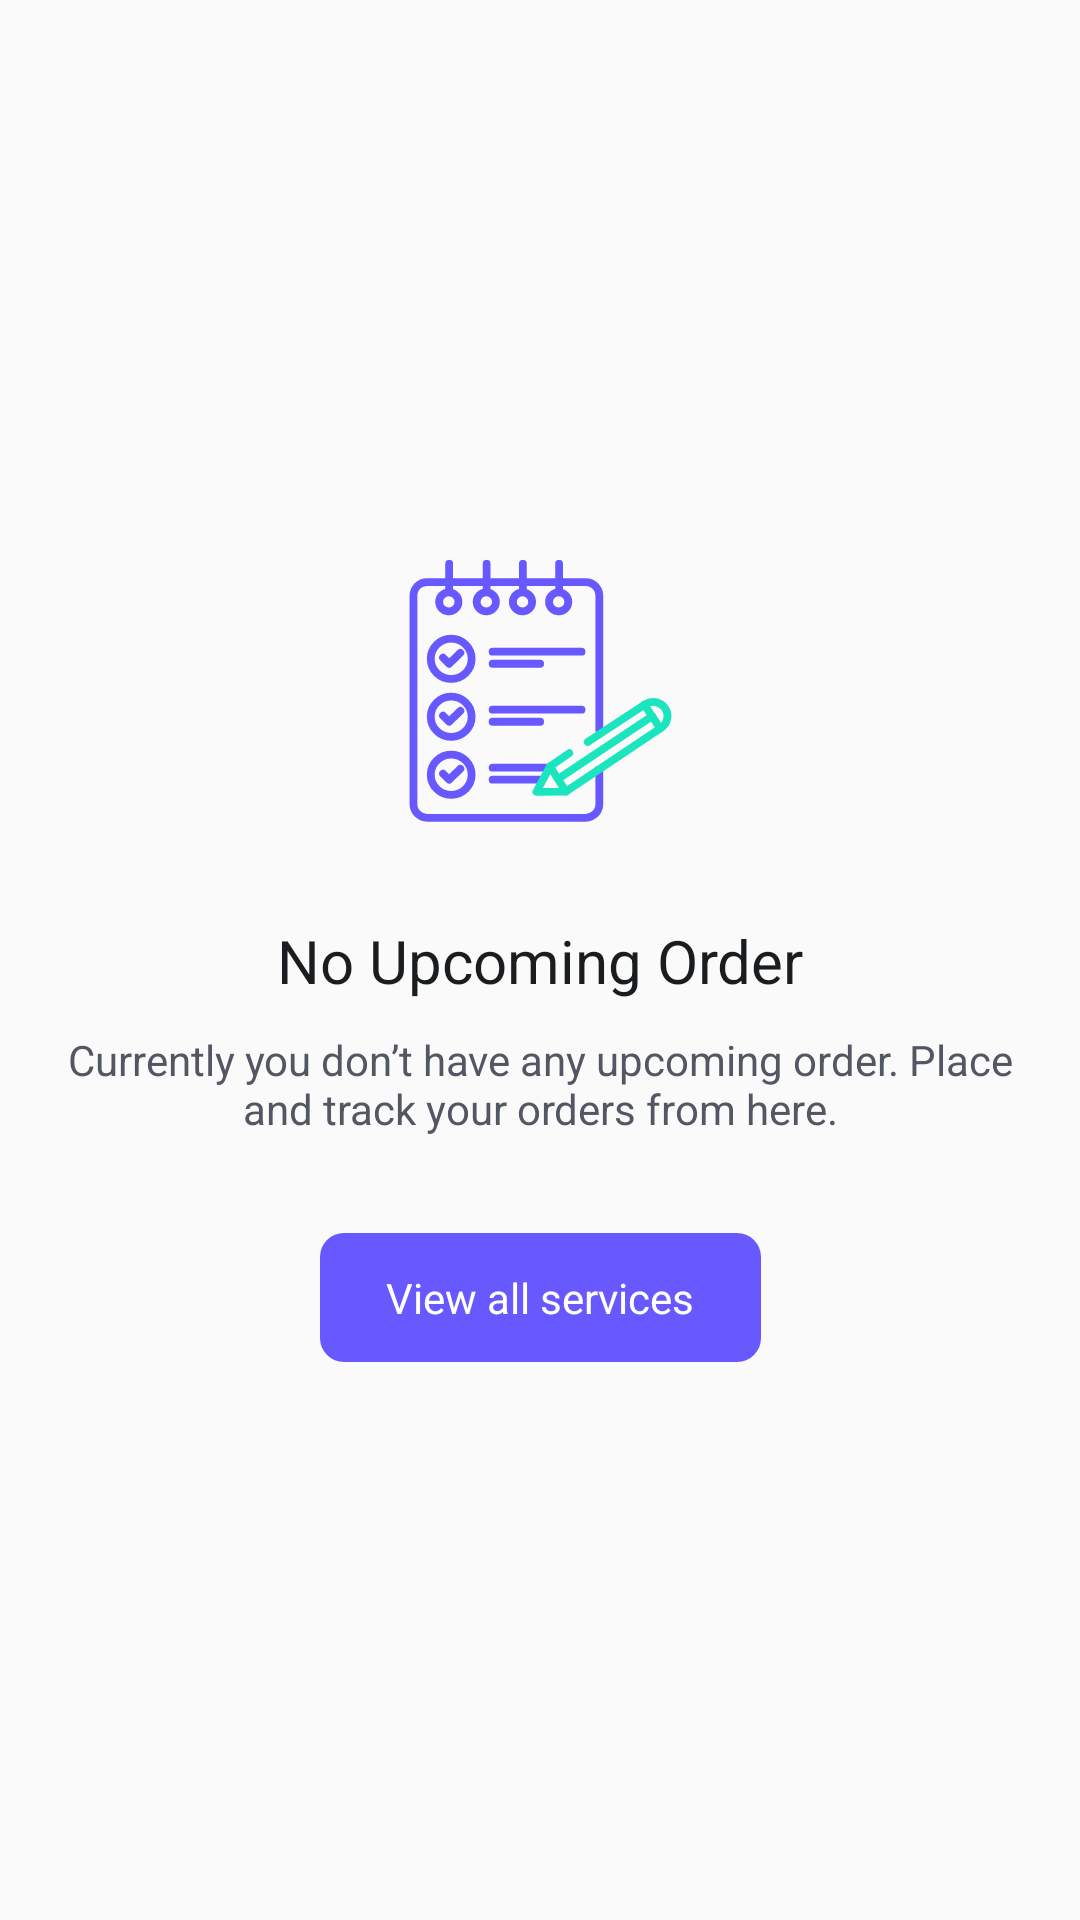

Locate icon controls on the screen. Image size 1080x1920, boxes as (x1, y1, x2, y2).
booking: (409, 560, 672, 822)
